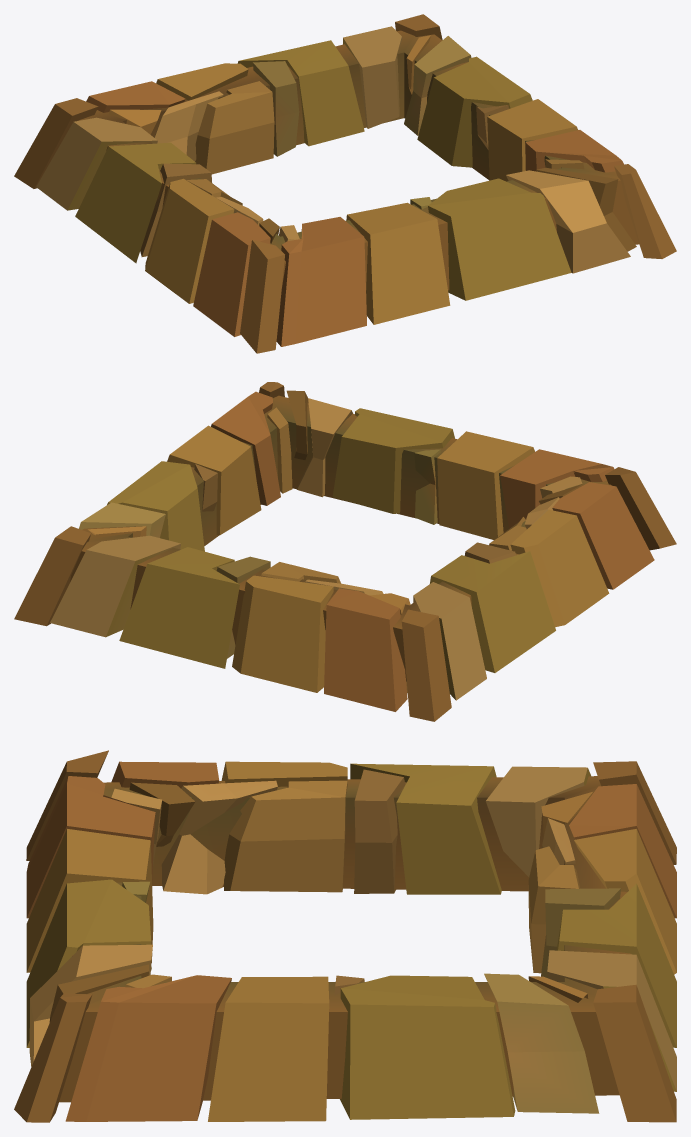
Rendered from ENV_Adventure_Tile_02.fbx.
3 views of the same model, one above another, from view 1: azimuth 30°, elevation 25°; view 2: azimuth 150°, elevation 25°; view 3: azimuth 270°, elevation 25° (orthographic). The views are drawn at different scales.
Parts seen in each view (by area): view 1: ENV_Adventure_Tile_04; view 2: ENV_Adventure_Tile_04; view 3: ENV_Adventure_Tile_04.
Boxes of the visible parts, x1=… form: ENV_Adventure_Tile_04: x1=14, y1=14, x2=676, y2=353; ENV_Adventure_Tile_04: x1=14, y1=382, x2=676, y2=721; ENV_Adventure_Tile_04: x1=14, y1=750, x2=676, y2=1122.
Bounding box in the file's own units: 641 × 125 × 653.
